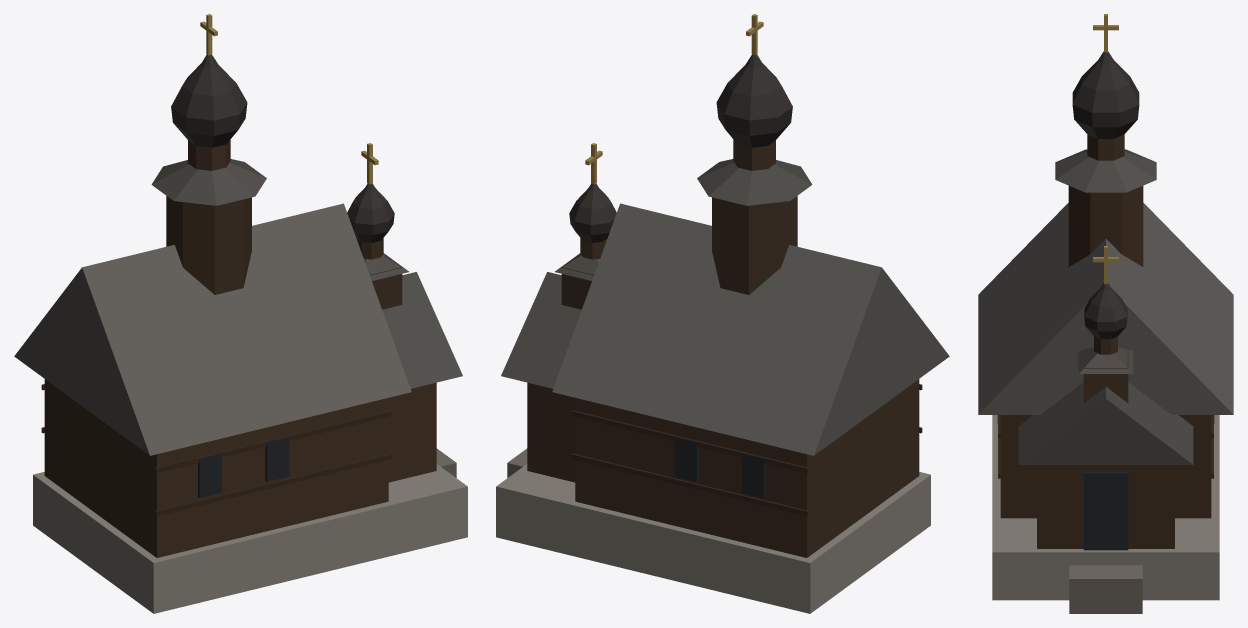
The model's file is ruska_kapelica.glb.
The picture shows the model from 3 angles, left to right: view 1: azimuth 30°, elevation 25°; view 2: azimuth 150°, elevation 25°; view 3: azimuth 270°, elevation 25°; orthographic projection. The views are drawn at different scales.
Visible parts, largest first — view 1: ruska_kapelica; view 2: ruska_kapelica; view 3: ruska_kapelica.
Part boxes in pixels (bbox=[...]): ruska_kapelica: bbox=[14, 14, 467, 613]; ruska_kapelica: bbox=[496, 14, 949, 613]; ruska_kapelica: bbox=[978, 14, 1233, 613].
Size of the model in its own units: 9.5 by 13.45 by 6.3.
